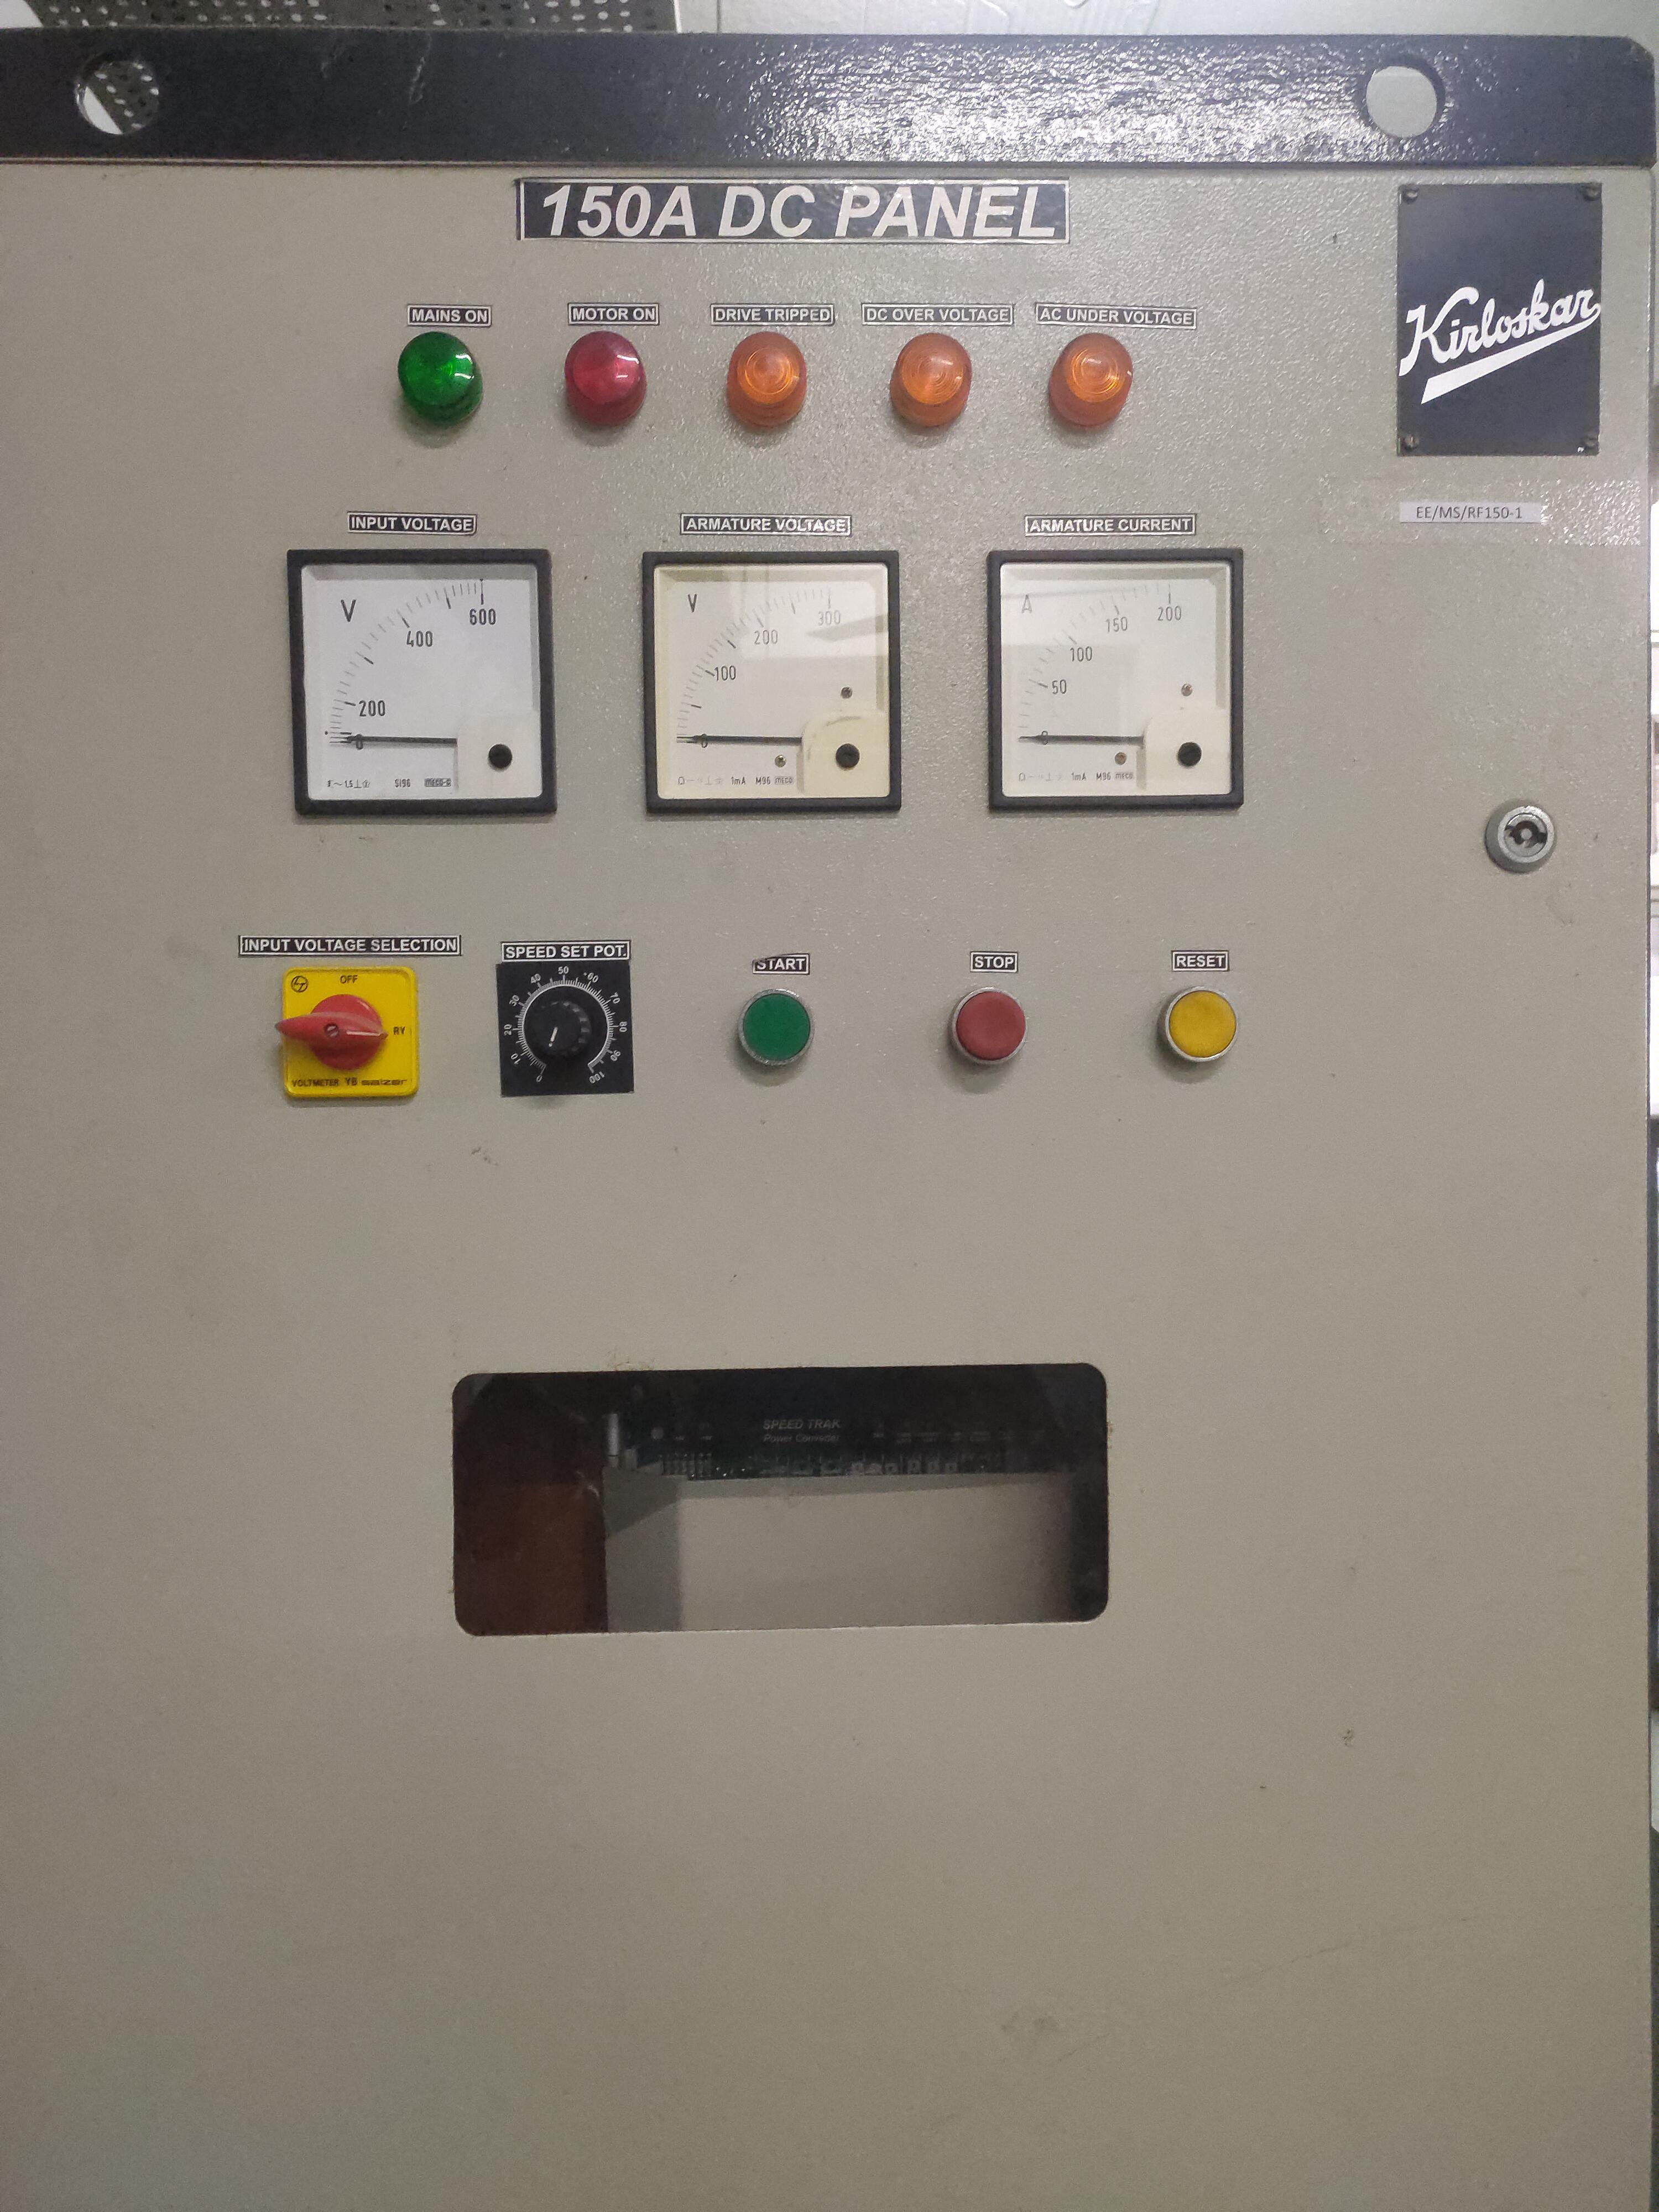Light Indications: (349, 265, 1190, 472)
